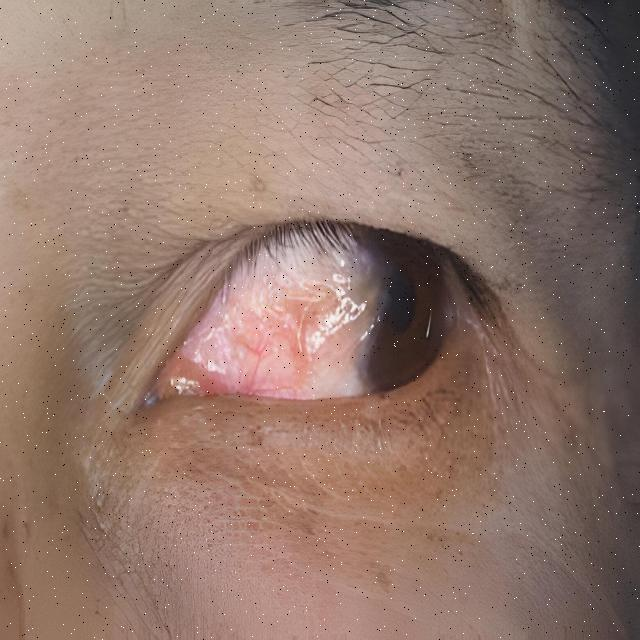Pterygium: (168, 249, 407, 396)
